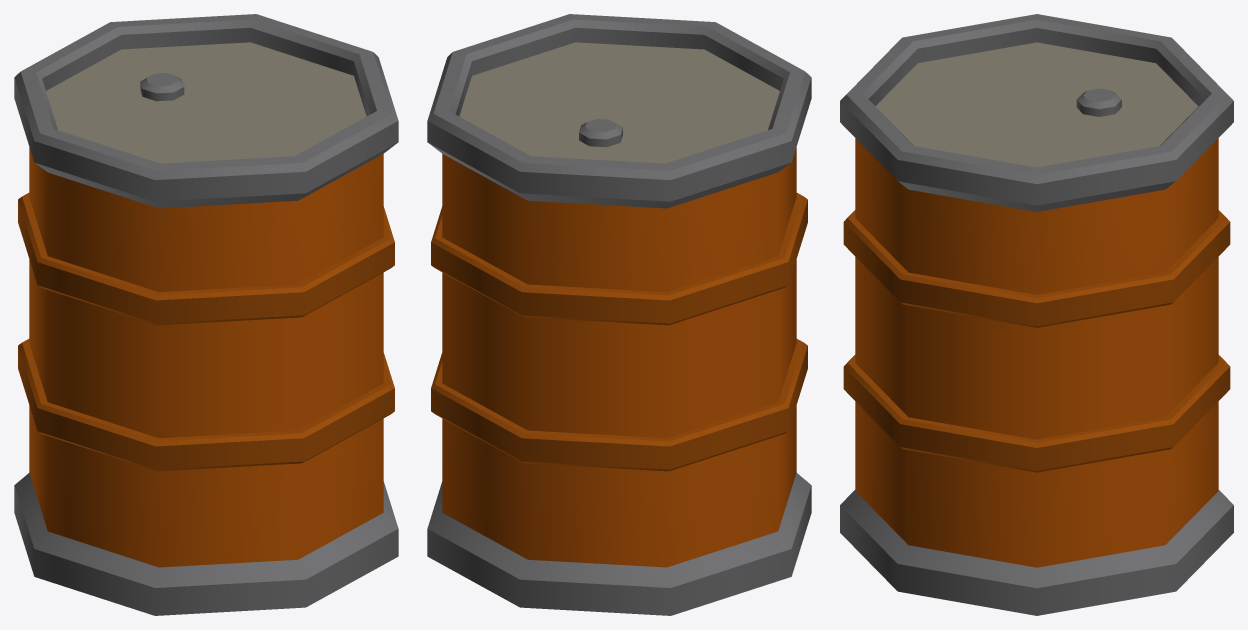
Rendered from Barrel_1_4.fbx.
3 views of the same model, side by side, from view 1: azimuth 30°, elevation 25°; view 2: azimuth 150°, elevation 25°; view 3: azimuth 270°, elevation 25° (orthographic).
Parts seen in each view (by area): view 1: Barrel_1_4; view 2: Barrel_1_4; view 3: Barrel_1_4.
Part boxes in pixels (x1,y1,x2,y2): Barrel_1_4: (14, 14, 398, 615); Barrel_1_4: (427, 14, 811, 615); Barrel_1_4: (840, 14, 1233, 615).
Bounding box in the file's own units: 67.48 × 83 × 67.48.
